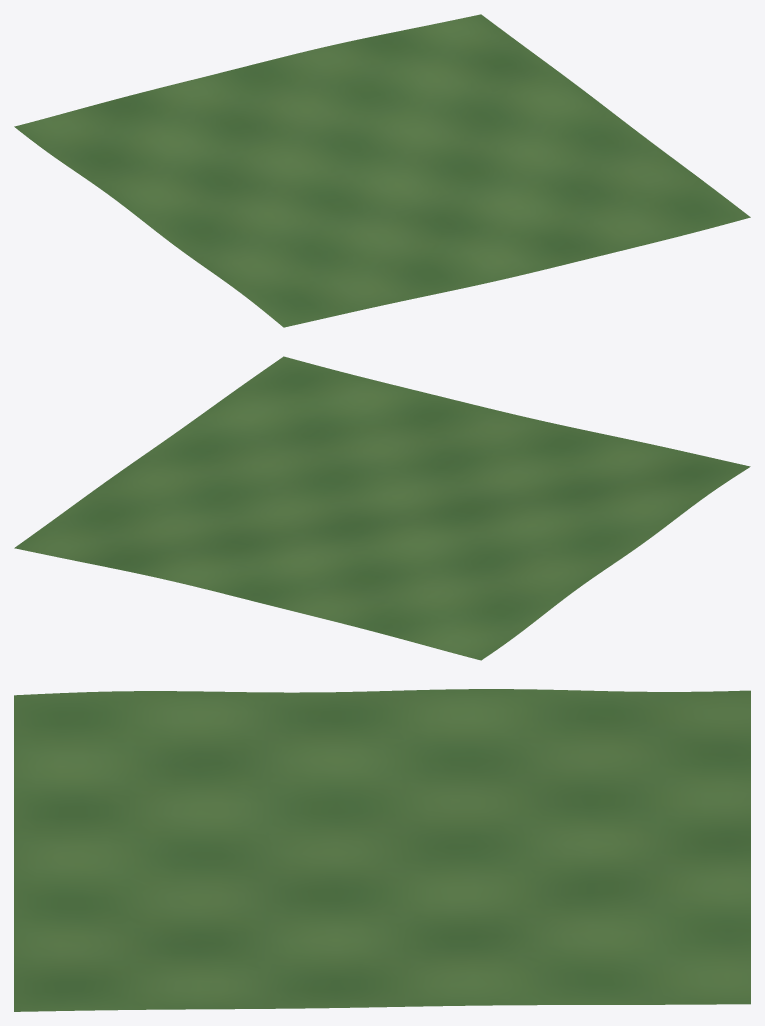
The model's file is chunk_10_6.glb.
3 renders of one model, top to bottom at view 1: azimuth 30°, elevation 25°; view 2: azimuth 150°, elevation 25°; view 3: azimuth 270°, elevation 25°, orthographic. The views are drawn at different scales.
Size of the model in its own units: 512 by 14.54 by 512.
